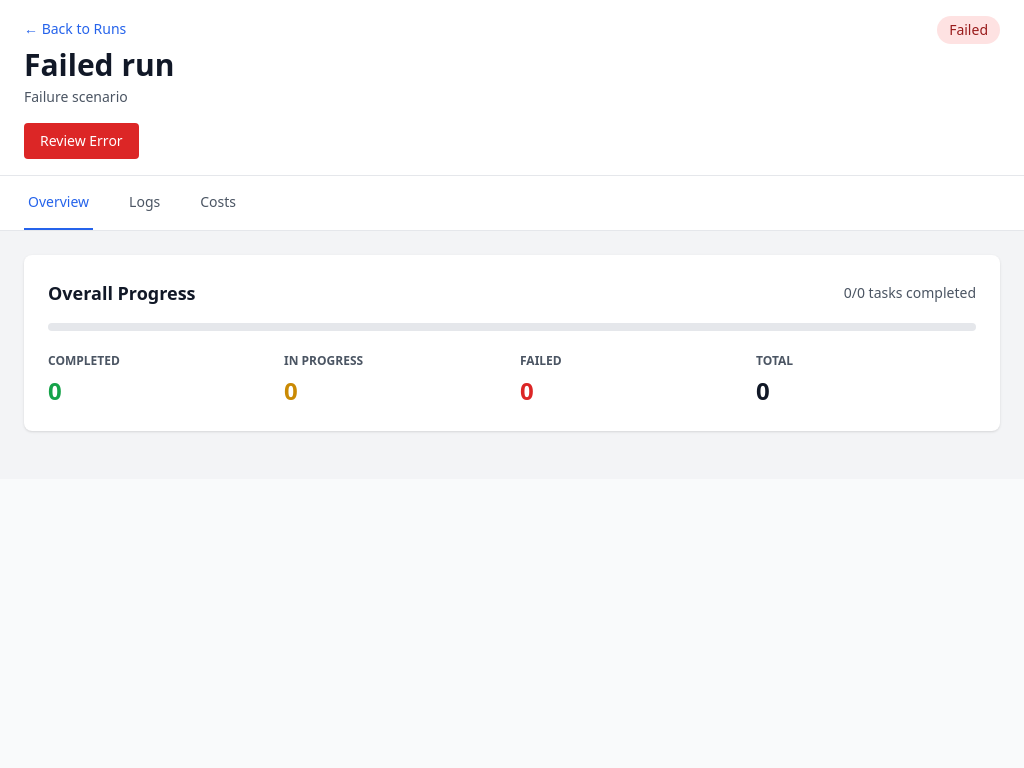
Scenario: ExecutionConsole repair workflow › renders failure analysis and recovery actions in modal
Click the button "Review Error": coordinates (81, 141) x1=24 y1=123 x2=139 y2=159
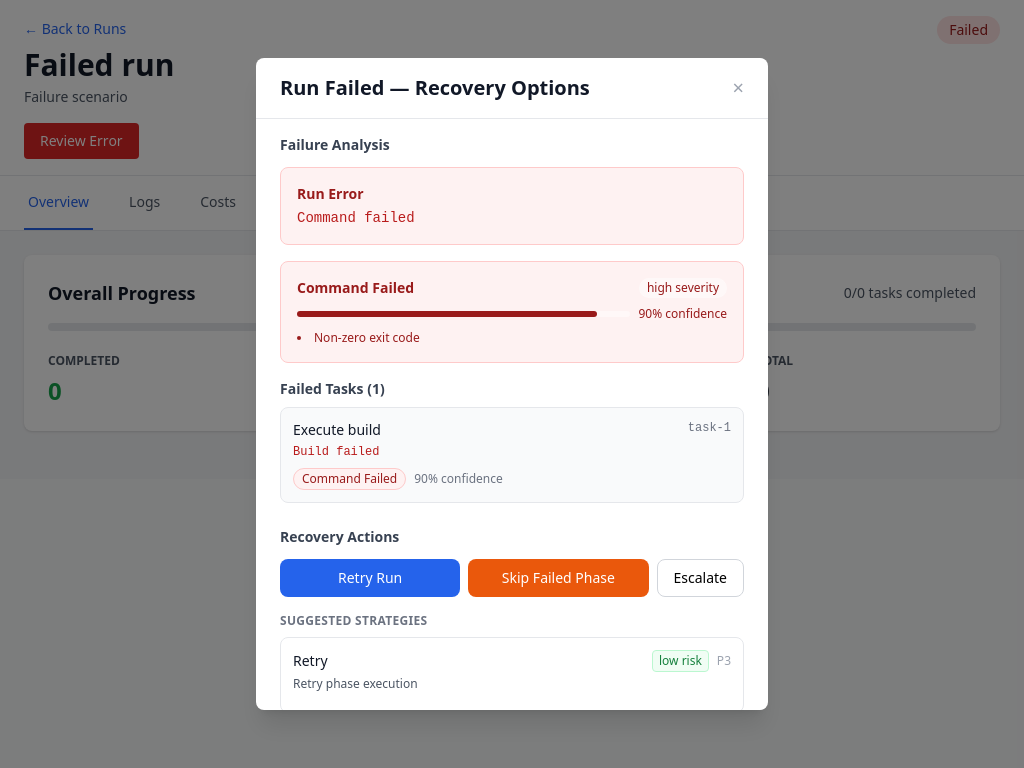
Result: the heading "Run Failed — Recovery Options" is shown at x1=280 y1=74 x2=590 y2=102
Result: the text "Failure Analysis" is shown at x1=280 y1=135 x2=390 y2=154
Result: the text "Recovery Actions" is shown at x1=280 y1=527 x2=399 y2=546
